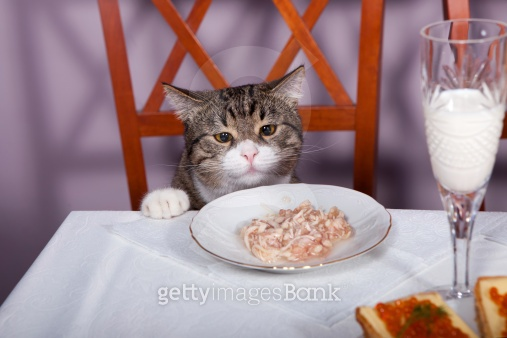glass of milk: (420, 14, 506, 299)
slice of bread: (353, 289, 475, 338), (470, 270, 507, 338)
